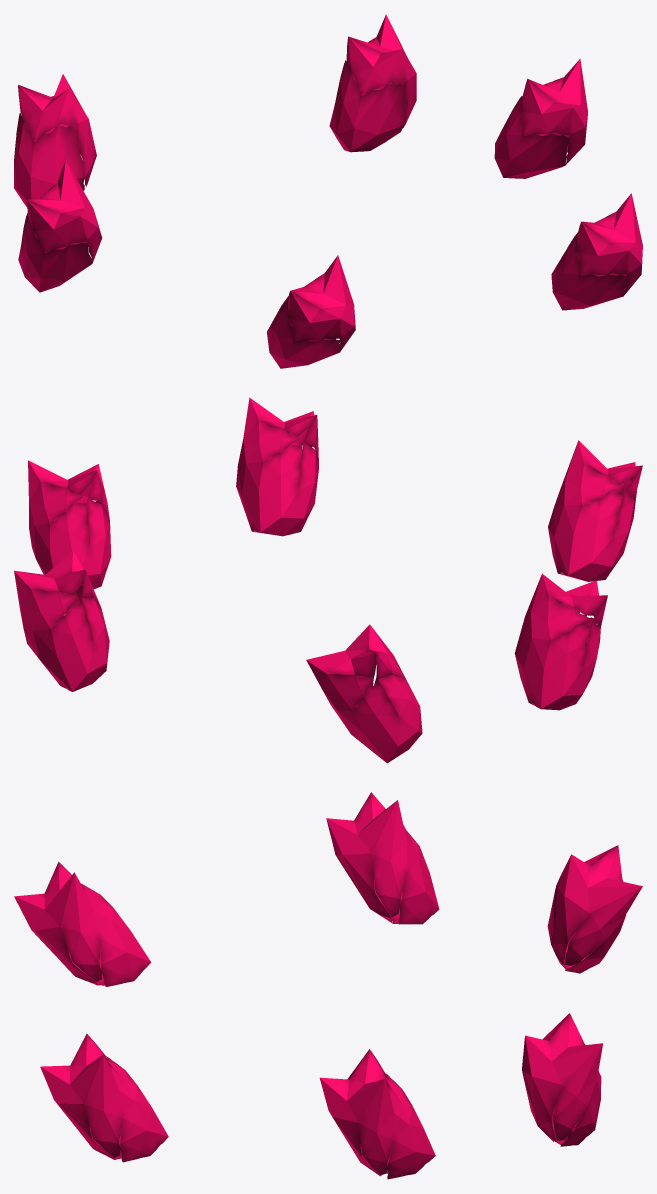
File: gems.fbx
3 views of the same model, one above another, from view 1: azimuth 30°, elevation 25°; view 2: azimuth 150°, elevation 25°; view 3: azimuth 270°, elevation 25° (orthographic). The views are drawn at different scales.
Parts seen in each view (by area): view 1: Gems; view 2: Gems; view 3: Gems.
Part boxes in pixels (bbox=[...]): Gems: bbox=[14, 14, 642, 368]; Gems: bbox=[14, 397, 642, 763]; Gems: bbox=[14, 792, 642, 1179].
Bounding box in the file's own units: 5 × 1.26 × 4.62.
